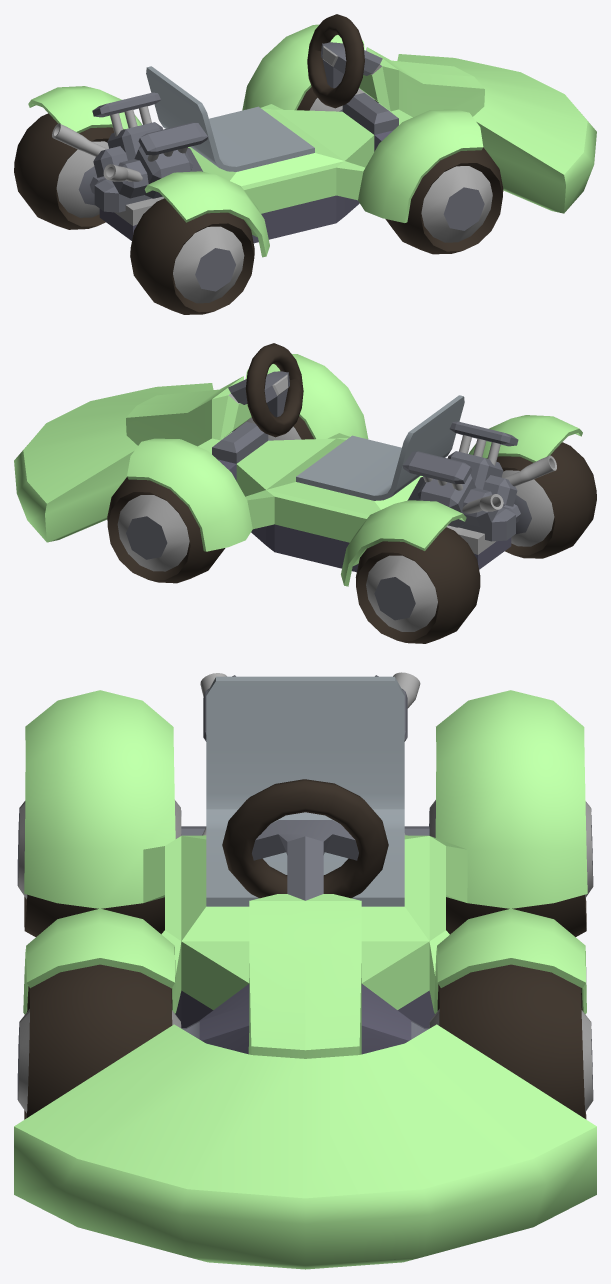
The model's file is Kart_001.fbx.
The picture shows the model from 3 angles, top to bottom: view 1: azimuth 30°, elevation 25°; view 2: azimuth 150°, elevation 25°; view 3: azimuth 270°, elevation 25°; orthographic projection. The views are drawn at different scales.
Visible parts, largest first — view 1: Kart_006; view 2: Kart_006; view 3: Kart_006.
Part boxes in pixels (<box>): Kart_006: <box>14,14,596,314</box>; Kart_006: <box>14,343,596,643</box>; Kart_006: <box>14,672,596,1269</box>.
Size of the model in its own units: 12.39 by 4.76 by 7.2.
